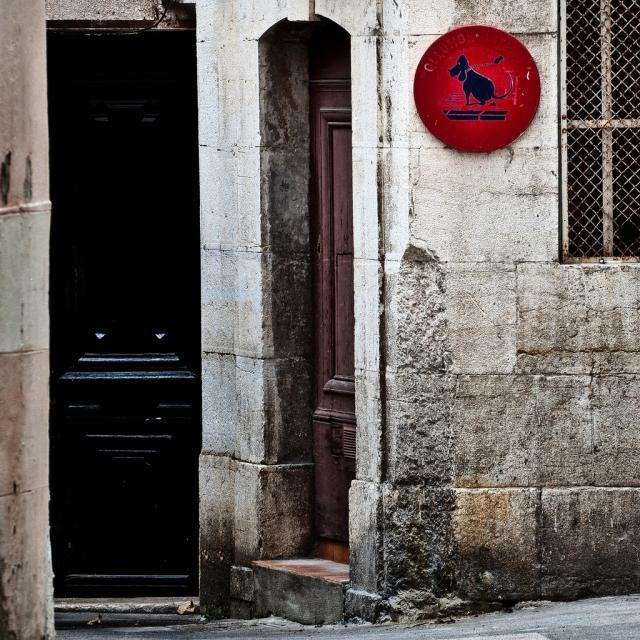door: (35, 18, 202, 610), (258, 16, 354, 592)
